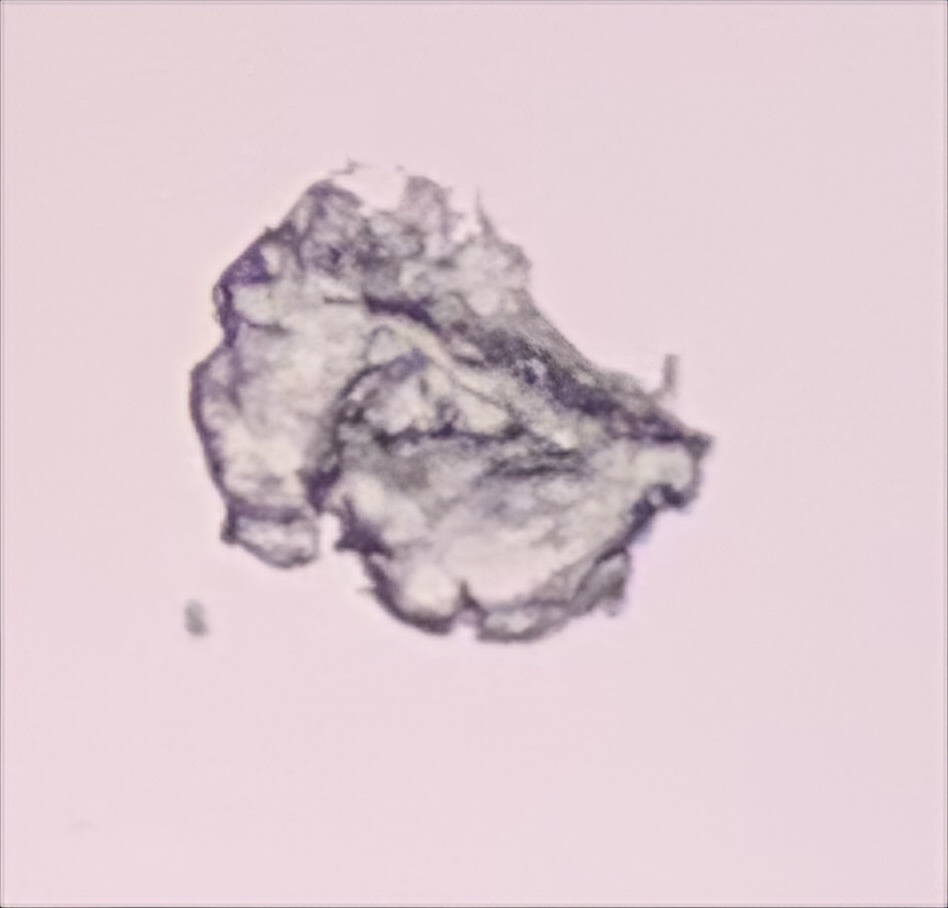microplastic: (188, 162, 715, 643)
